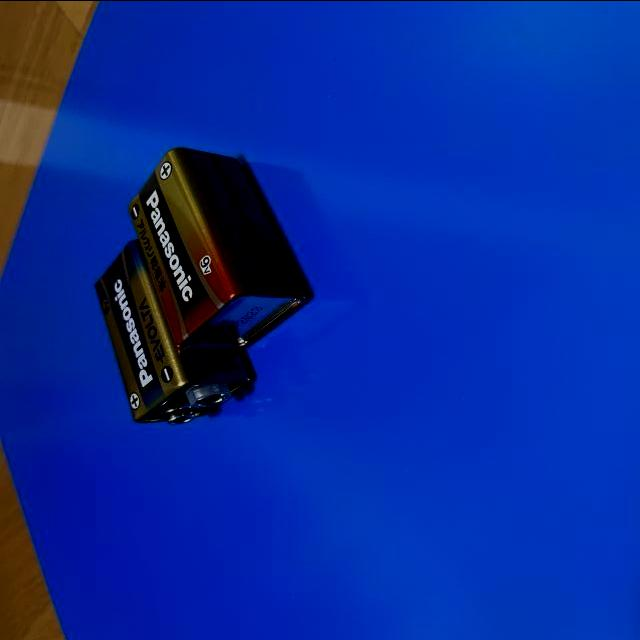9V: (127, 146, 308, 350), (91, 237, 251, 422)
